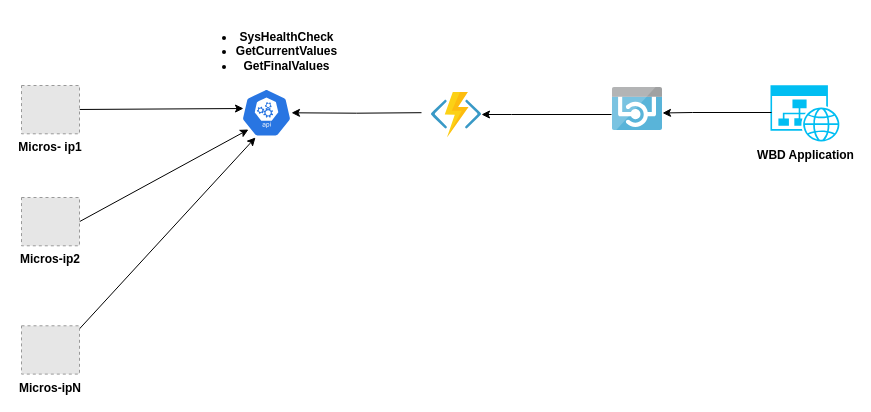
The diagram is 871 pixels wide and 412 high, and some of its shapes have lost their labels. Grey dashed boxes stand in for pictures. The shapes that lost their labels are listed below. From the top down, each one's centre as x and y in pixels, then its label:
pixel 456 115: Azure Function (Consumption Plan)
pixel 637 108: Azure API App
